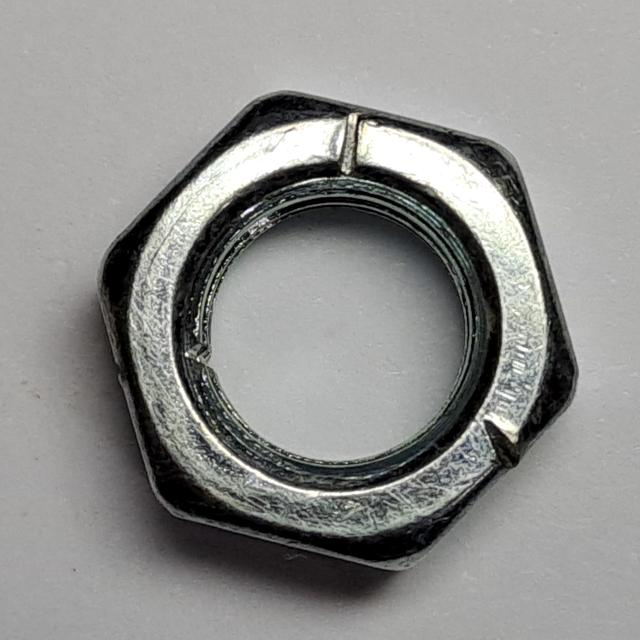Scratches: (89, 83, 594, 585)
